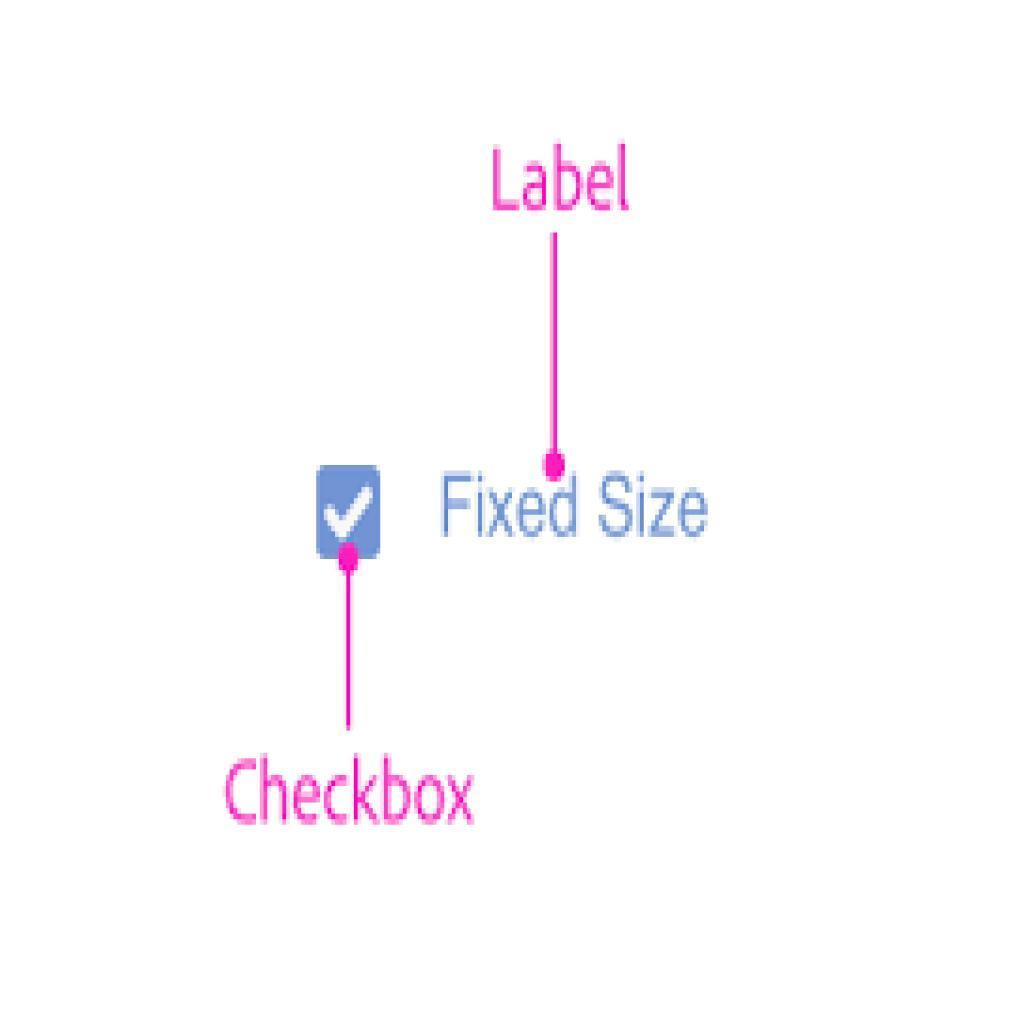checkbox: (315, 466, 382, 562)
